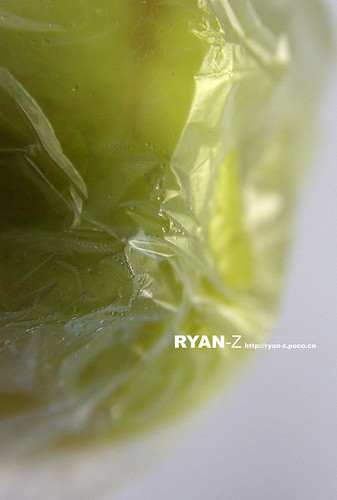plastic bag: (1, 1, 335, 500)
